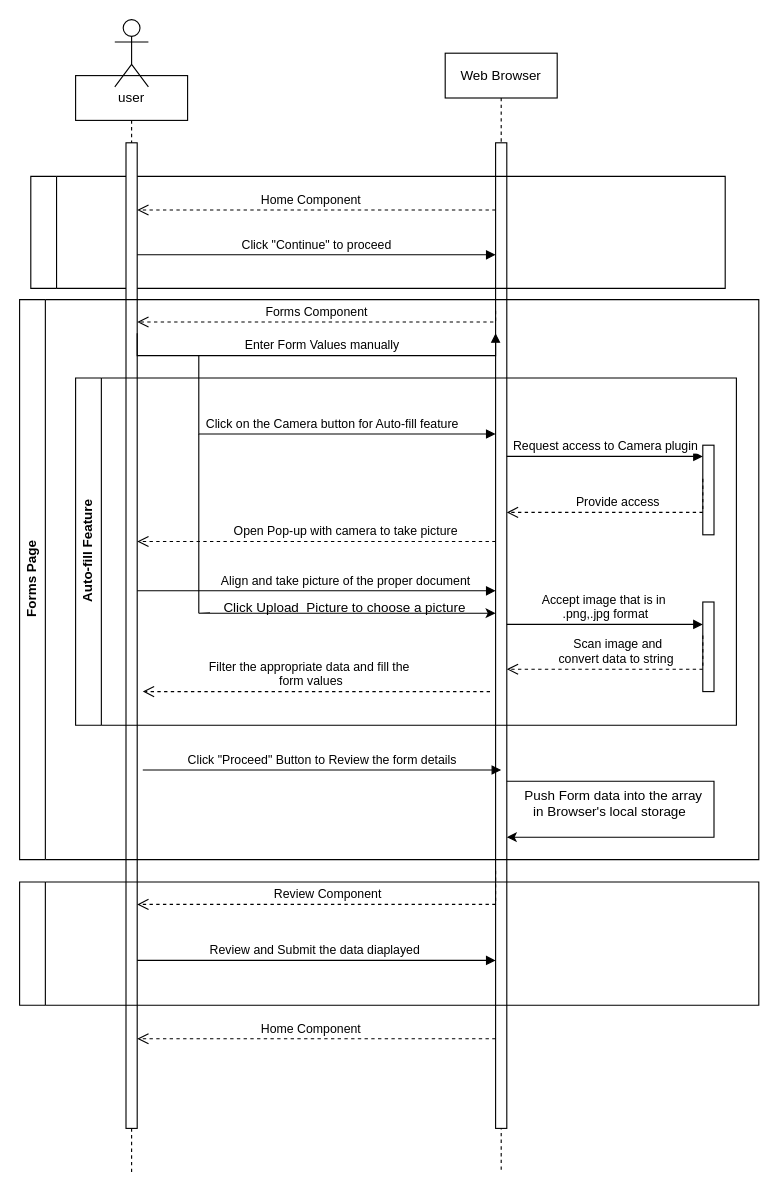
The diagram is 778 pixels wide and 1193 high, and some of its shapes have lost their labels. Here are the shapes that lost their labels. From the top down, the centre of each, then its label:
At (x=377, y=231): "Home Page".
At (x=388, y=943): "Review Page".
